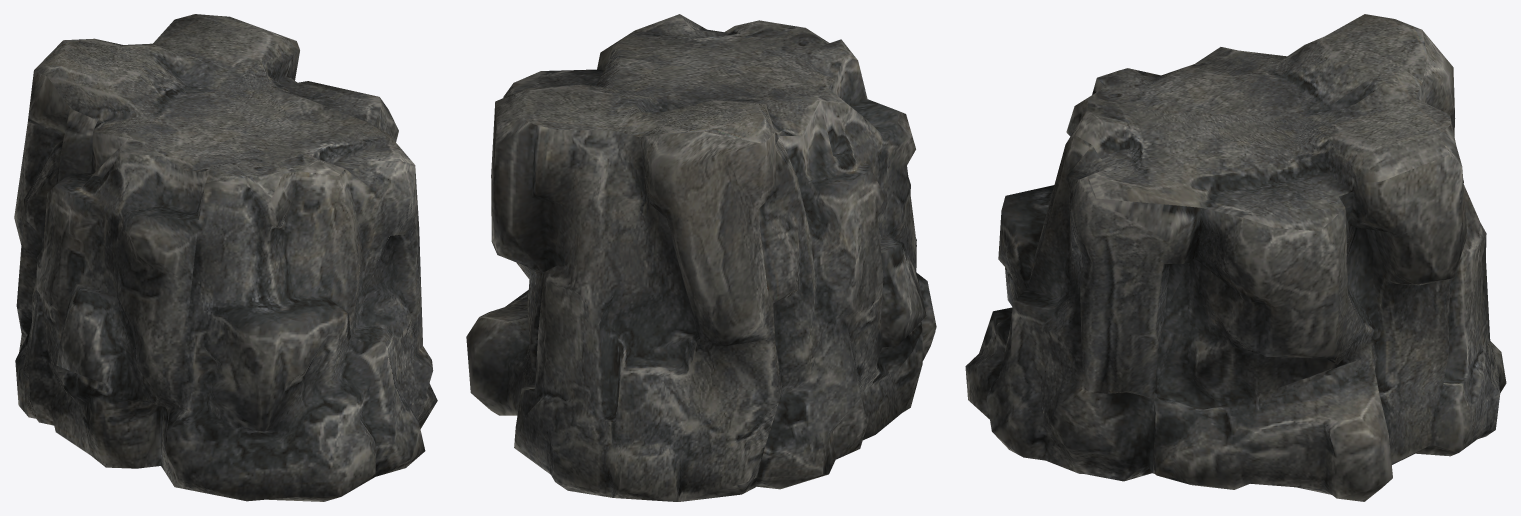
File: SC_yonghengsenlin_shitou01.FBX
The picture shows the model from 3 angles, left to right: view 1: azimuth 30°, elevation 25°; view 2: azimuth 150°, elevation 25°; view 3: azimuth 270°, elevation 25°; orthographic projection. The views are drawn at different scales.
Parts seen in each view (by area): view 1: SC_yonghengsenlin_shitou01; view 2: SC_yonghengsenlin_shitou01; view 3: SC_yonghengsenlin_shitou01.
Boxes of the visible parts, <box> form: SC_yonghengsenlin_shitou01: <box>14,14,437,501</box>; SC_yonghengsenlin_shitou01: <box>466,14,936,501</box>; SC_yonghengsenlin_shitou01: <box>965,14,1506,501</box>.
Bounding box in the file's own units: 1781 × 1702 × 2225.
